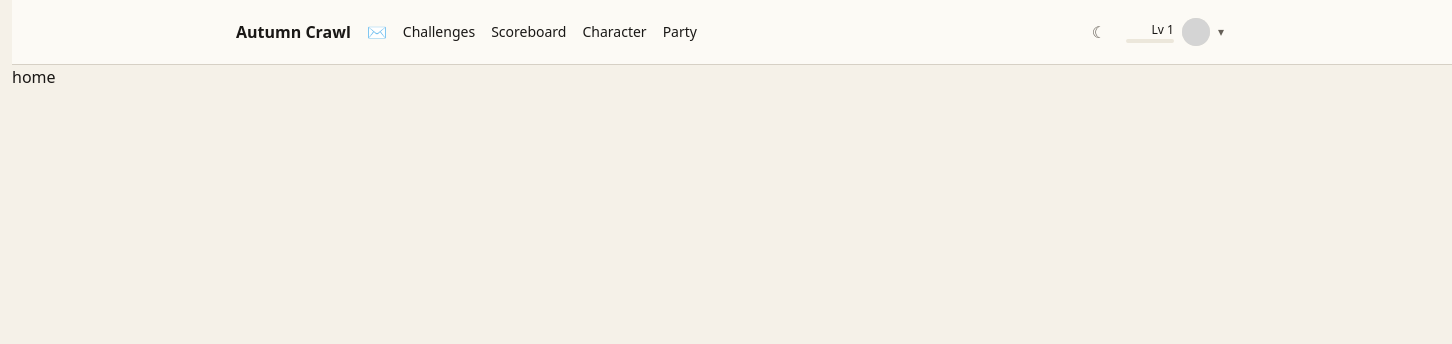
Test: AppLayout navigation › closes the profile menu on Escape
Click the button with aria-label "level" at [1175, 32], box [1122, 16, 1228, 48]
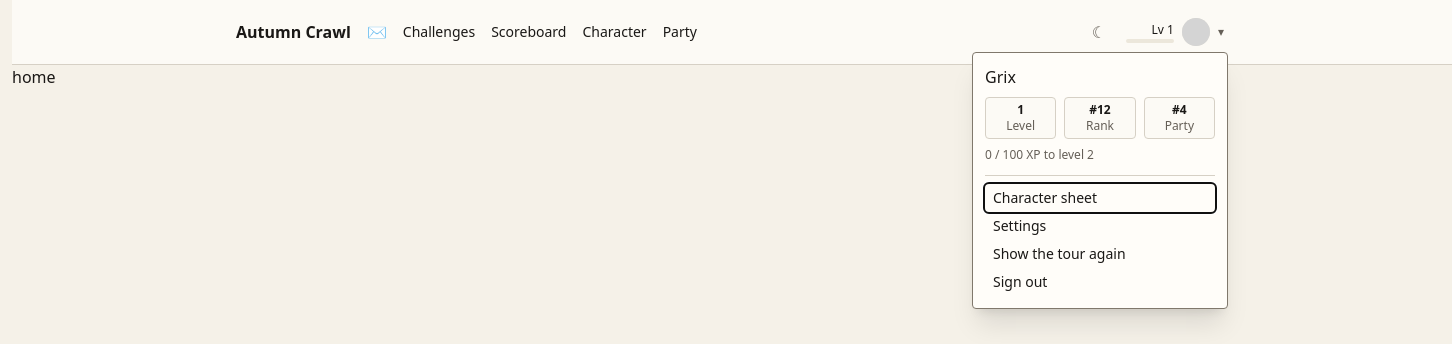
Now the menu named "Profile" is shown, box [972, 52, 1228, 309]
Press Escape
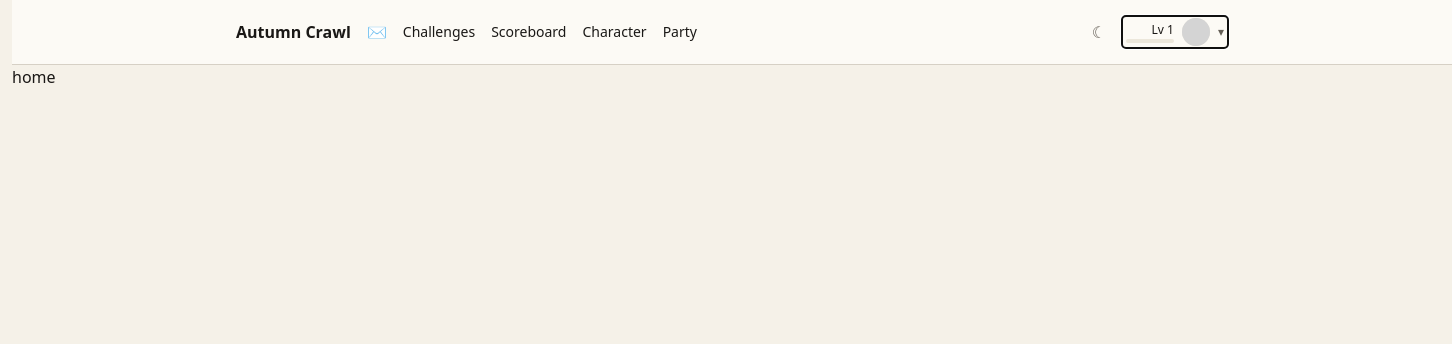
Now the menu "Profile" is gone
